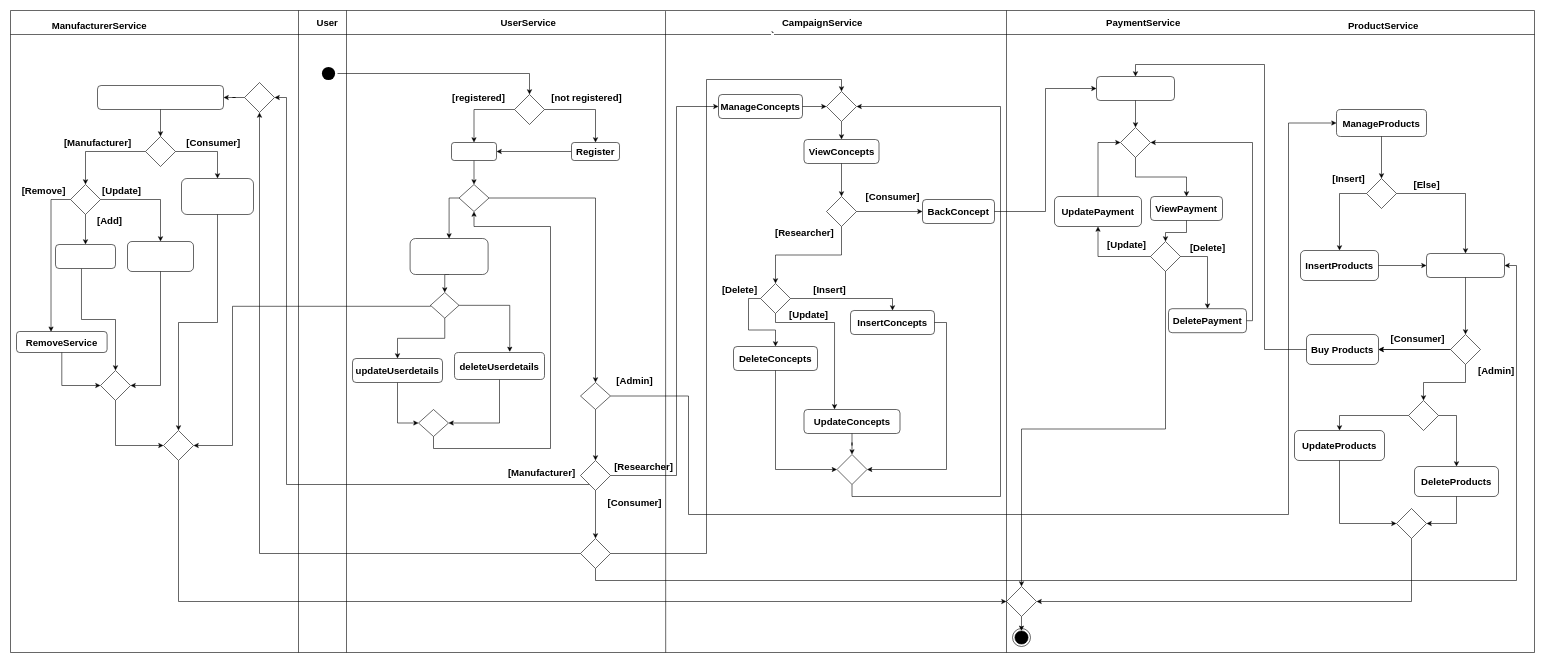
Some shapes in this 1546 by 664 pixel diagram are drawn without their labels. The shapes that lost their labels are listed below. From the top down, each one's centre as x and y in pixels, then its label:
At (160,97): "AccessManufacturerAPI".
At (1135,88): "InsertPayment".
At (473,151): "Login".
At (217,196): "View Existing Services".
At (85,256): "AddService".
At (160,256): "updateServie".
At (449,256): "ViewUserdetails".
At (1465,265): "ViewProducts".
